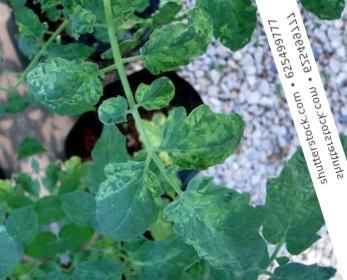Tomato leaf mosaic virus: (158, 162, 283, 280), (76, 149, 179, 252), (149, 88, 255, 183), (17, 43, 122, 133), (132, 2, 221, 78), (187, 0, 264, 60), (131, 72, 186, 117), (94, 93, 136, 132)
